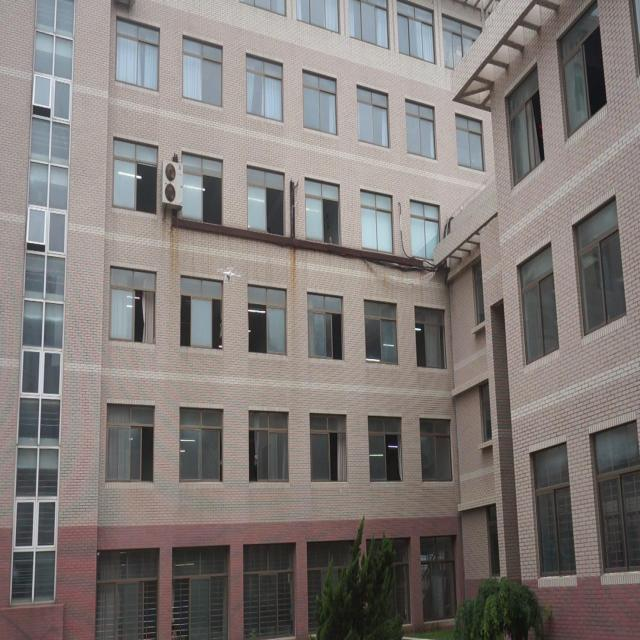drone: (214, 262, 244, 290)
